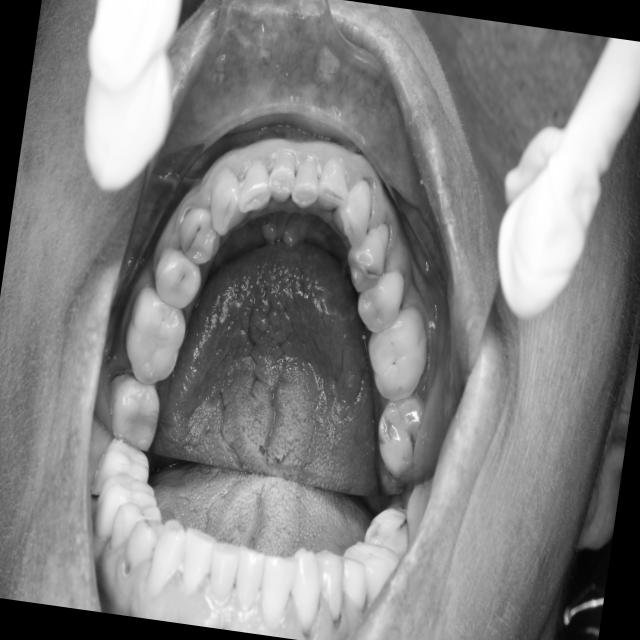tooth: (354, 298, 446, 424), (113, 274, 200, 395), (365, 389, 440, 496), (95, 361, 173, 460), (337, 211, 406, 313), (346, 258, 419, 346), (328, 165, 391, 262), (145, 241, 212, 324), (198, 161, 254, 247), (175, 199, 231, 274), (308, 149, 361, 228), (231, 154, 280, 226), (282, 148, 329, 221), (260, 145, 305, 213)
